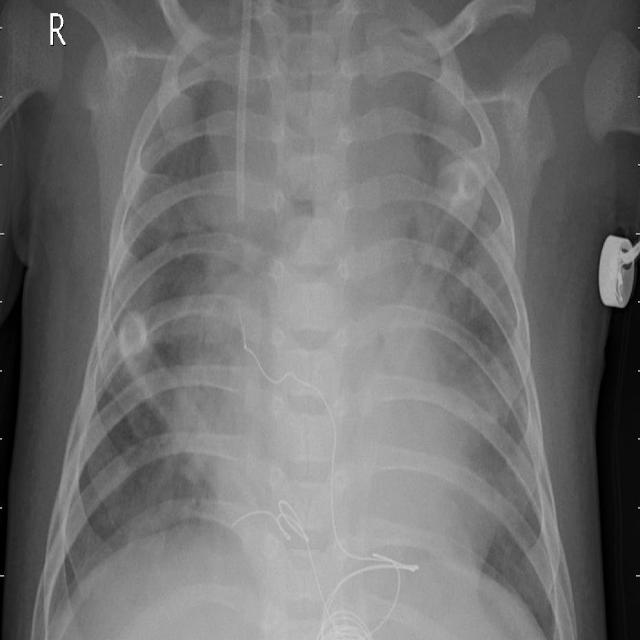low-pneumonia: (137, 293, 244, 510), (185, 87, 278, 293), (455, 329, 531, 528), (370, 78, 436, 243)
